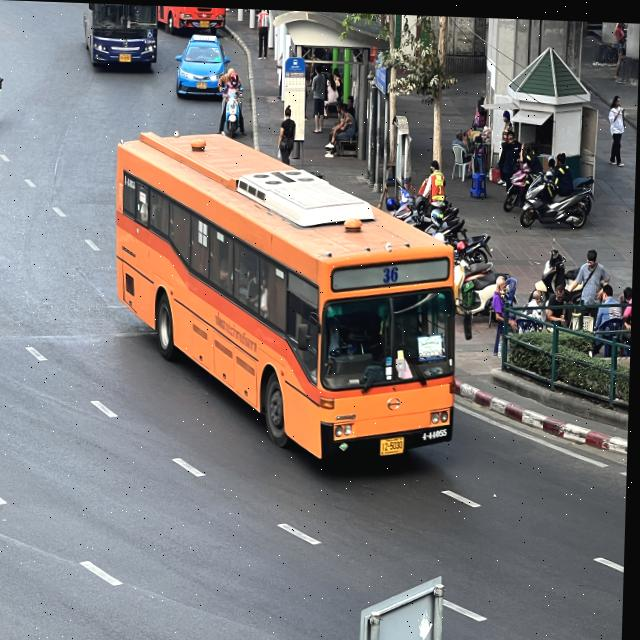BMTA-bus: (109, 130, 465, 464)
Bus-Line-Number: (383, 260, 404, 283)
Destination-Sign-Normal: (418, 329, 448, 359)
